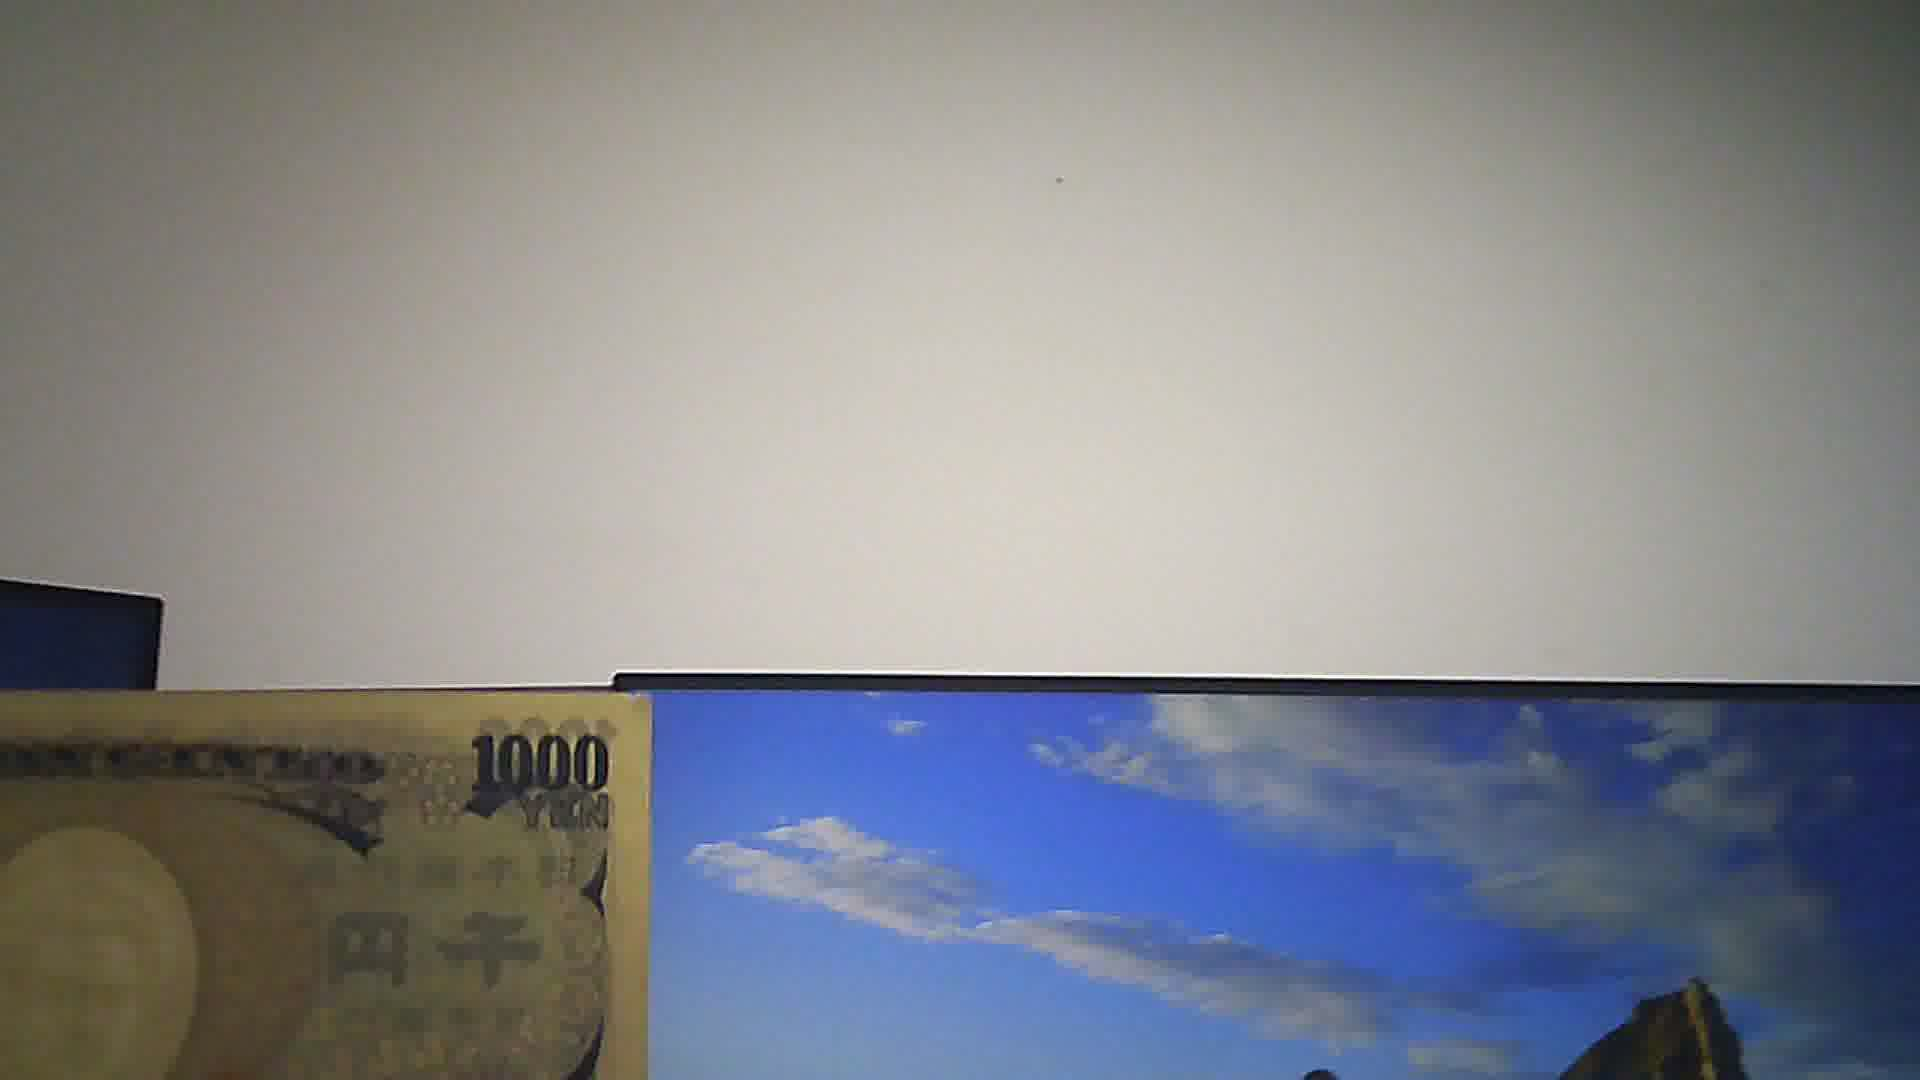1,000 Yen: (3, 665, 653, 1079)
